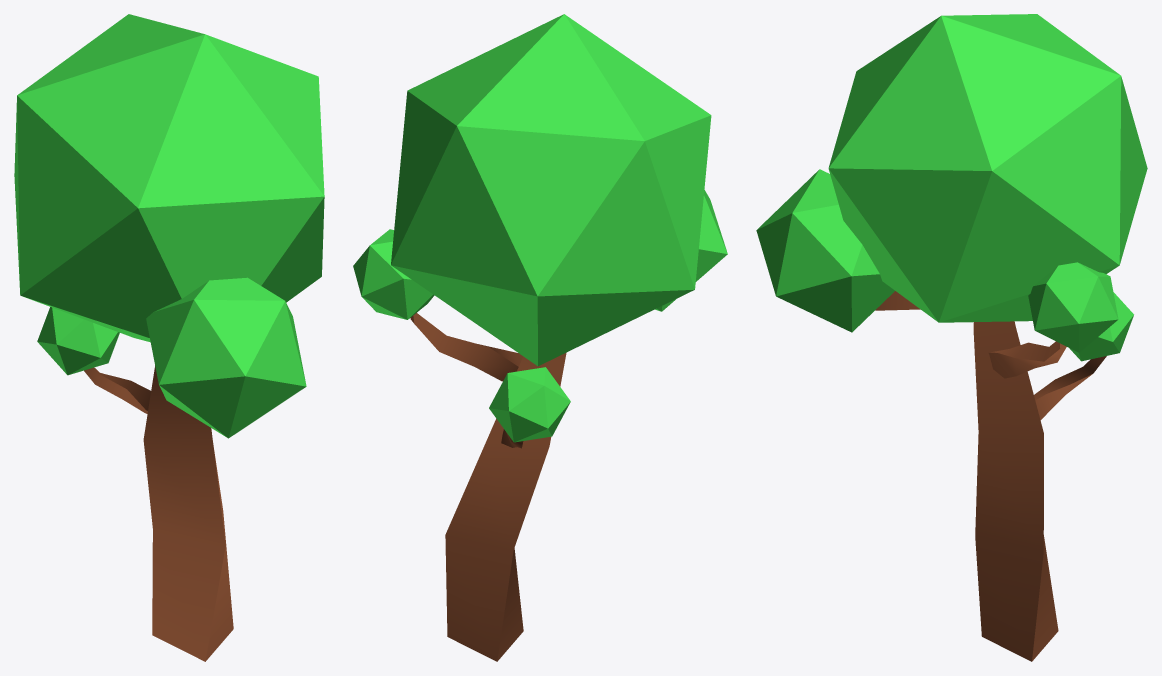
File: tree5.obj
3 views of the same model, side by side, from view 1: azimuth 30°, elevation 25°; view 2: azimuth 150°, elevation 25°; view 3: azimuth 270°, elevation 25° (orthographic). The views are drawn at different scales.
Parts seen in each view (by area): view 1: Platonic.3, Cylinder.4, Platonic.4, Platonic.2; view 2: Platonic.3, Cylinder.4, Platonic.2, Platonic.1, Platonic.4; view 3: Platonic.3, Cylinder.4, Platonic.4, Platonic.1, Platonic.2.
Part boxes in pixels (x1,y1,x2,y2): Platonic.3: (14, 14, 324, 342); Cylinder.4: (84, 366, 233, 661); Platonic.4: (146, 277, 306, 438); Platonic.2: (37, 307, 119, 375); Platonic.3: (391, 14, 711, 366); Cylinder.4: (410, 313, 566, 661); Platonic.2: (489, 367, 570, 442); Platonic.1: (353, 229, 434, 319); Platonic.4: (655, 189, 727, 311); Platonic.3: (828, 14, 1147, 322); Cylinder.4: (875, 291, 1106, 661); Platonic.4: (756, 169, 894, 332); Platonic.1: (1028, 262, 1118, 352); Platonic.2: (1069, 292, 1133, 361).
Size of the model in its own units: 4.35 by 8.57 by 4.97.
2 materials, 2 textured.
